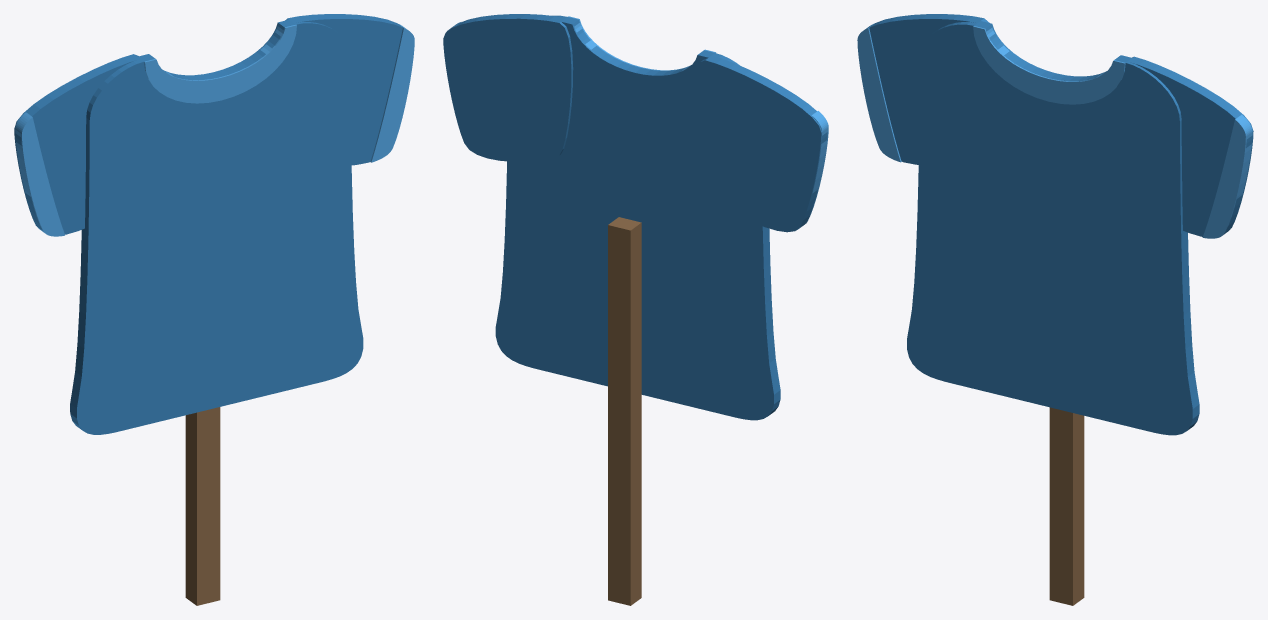
Rendered from chemise.glb.
3 views of the same model, side by side, from view 1: azimuth 30°, elevation 25°; view 2: azimuth 150°, elevation 25°; view 3: azimuth 330°, elevation 25° (orthographic). The views are drawn at different scales.
Size of the model in its own units: 1 by 1.39 by 0.105.
